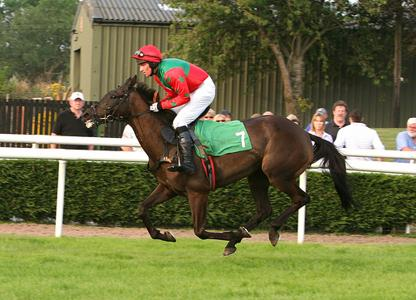person: (131, 45, 219, 175)
